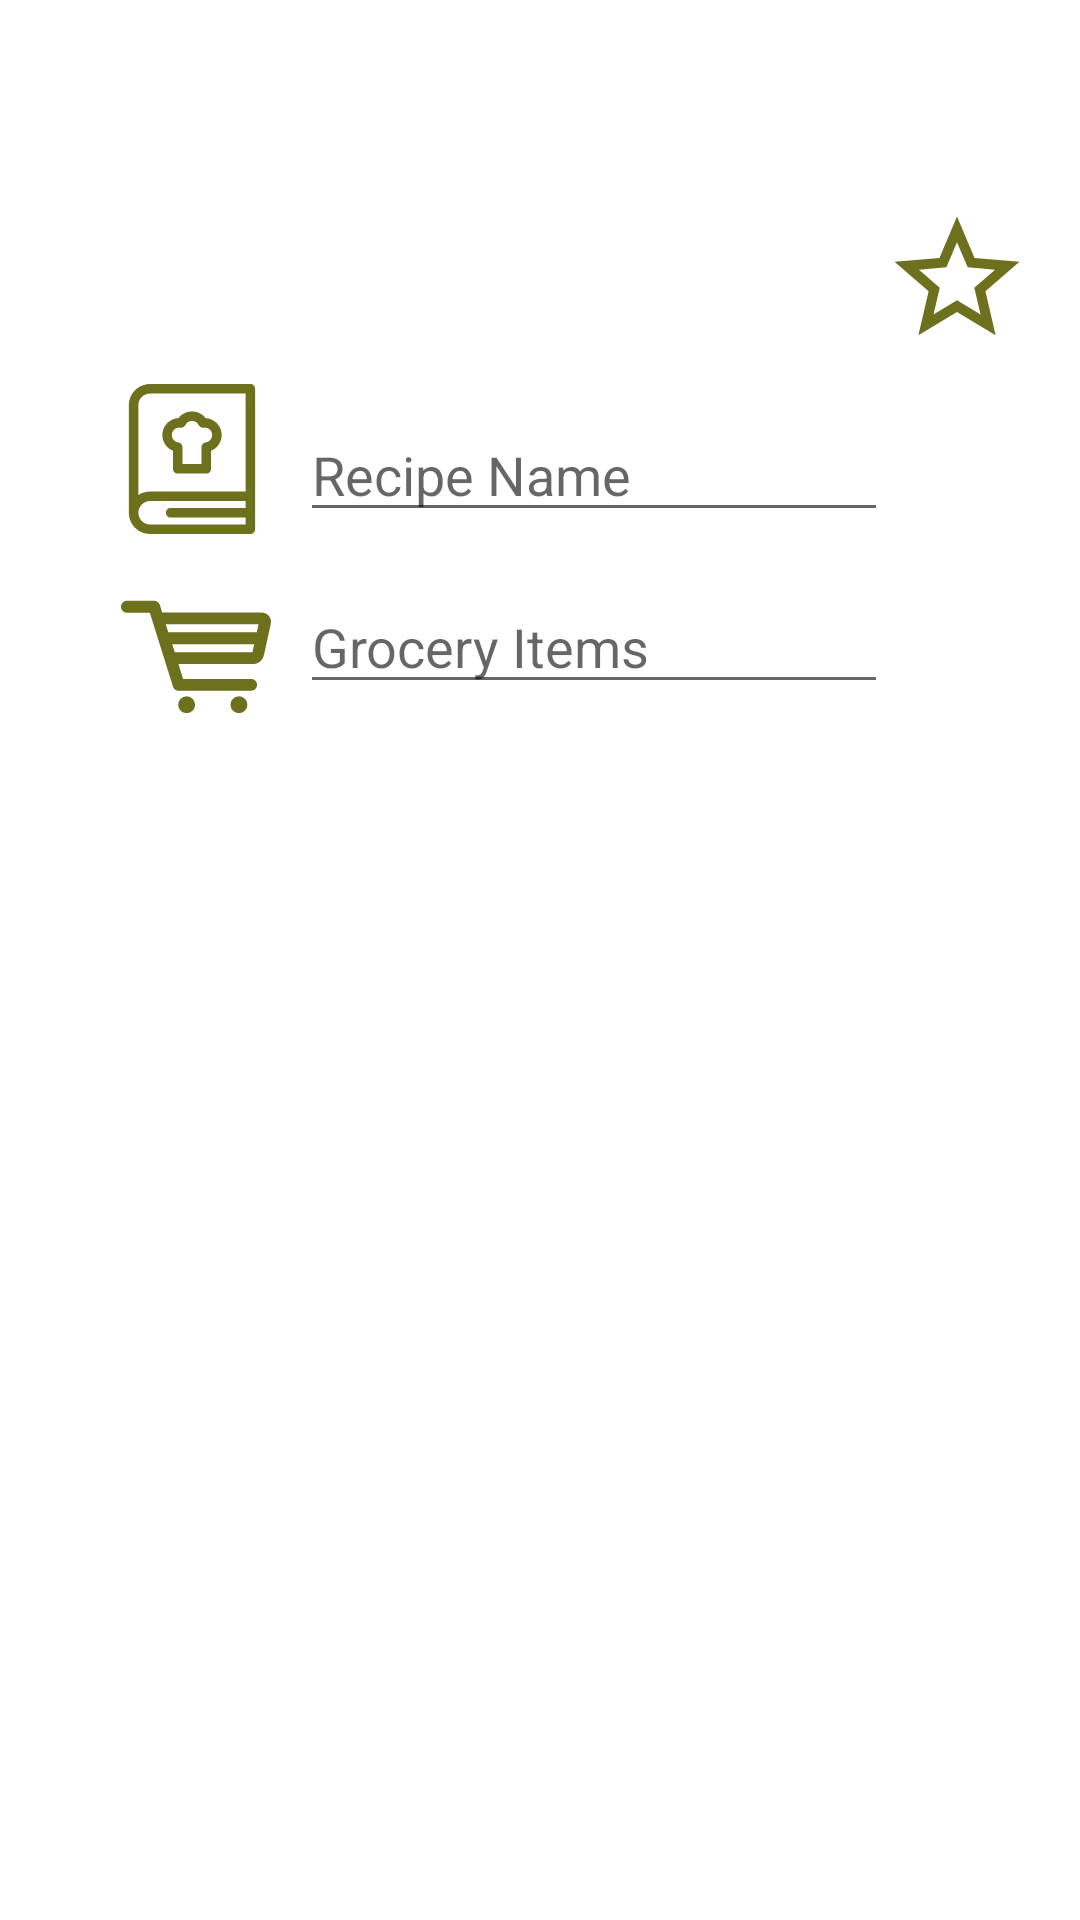

Named icons in this screenshot (1080w x 1920h) and their centers, point (x, y):
grocery trolley: point (196, 657)
recipes: point (192, 459)
star border: point (957, 276)
